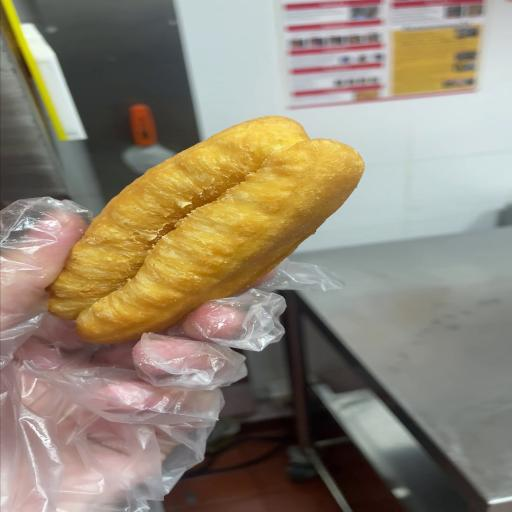brand_golden_good: (48, 116, 364, 344)
